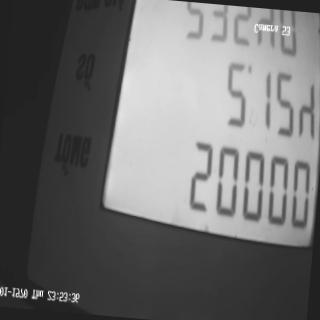screen: (88, 0, 320, 272)
